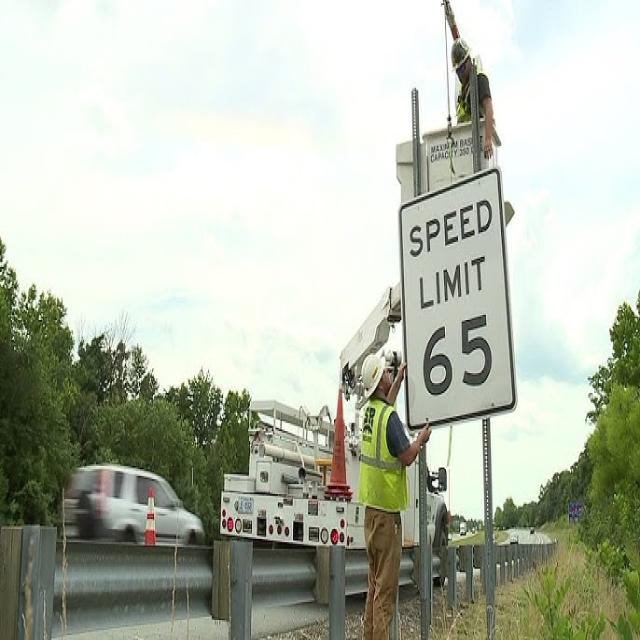Speed Limit Signs: (396, 164, 518, 433)
